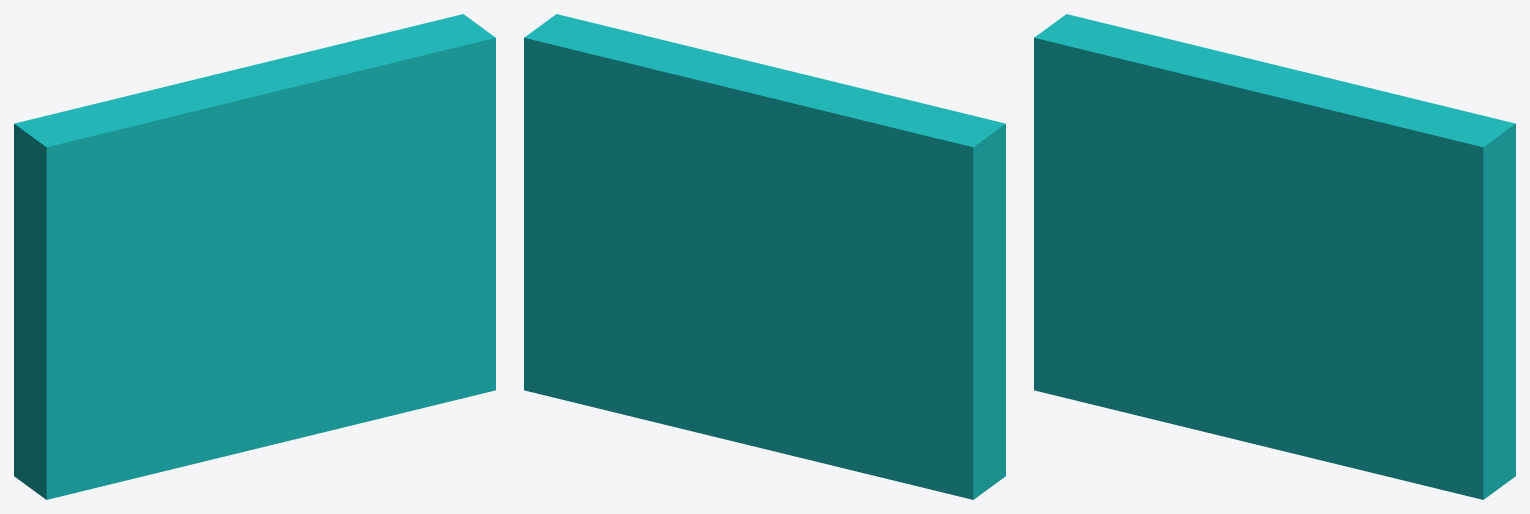
File: Tv00-Screen.gltf
3 renders of one model, left to right at view 1: azimuth 30°, elevation 25°; view 2: azimuth 150°, elevation 25°; view 3: azimuth 330°, elevation 25°, orthographic.
Visible parts, largest first — view 1: screen; view 2: screen; view 3: screen.
Boxes of the visible parts, left/top/right/bottom form: screen: left=14, top=14, right=495, bottom=499; screen: left=524, top=14, right=1005, bottom=499; screen: left=1034, top=14, right=1515, bottom=499.
Size of the model in its own units: 8 by 6 by 1.
